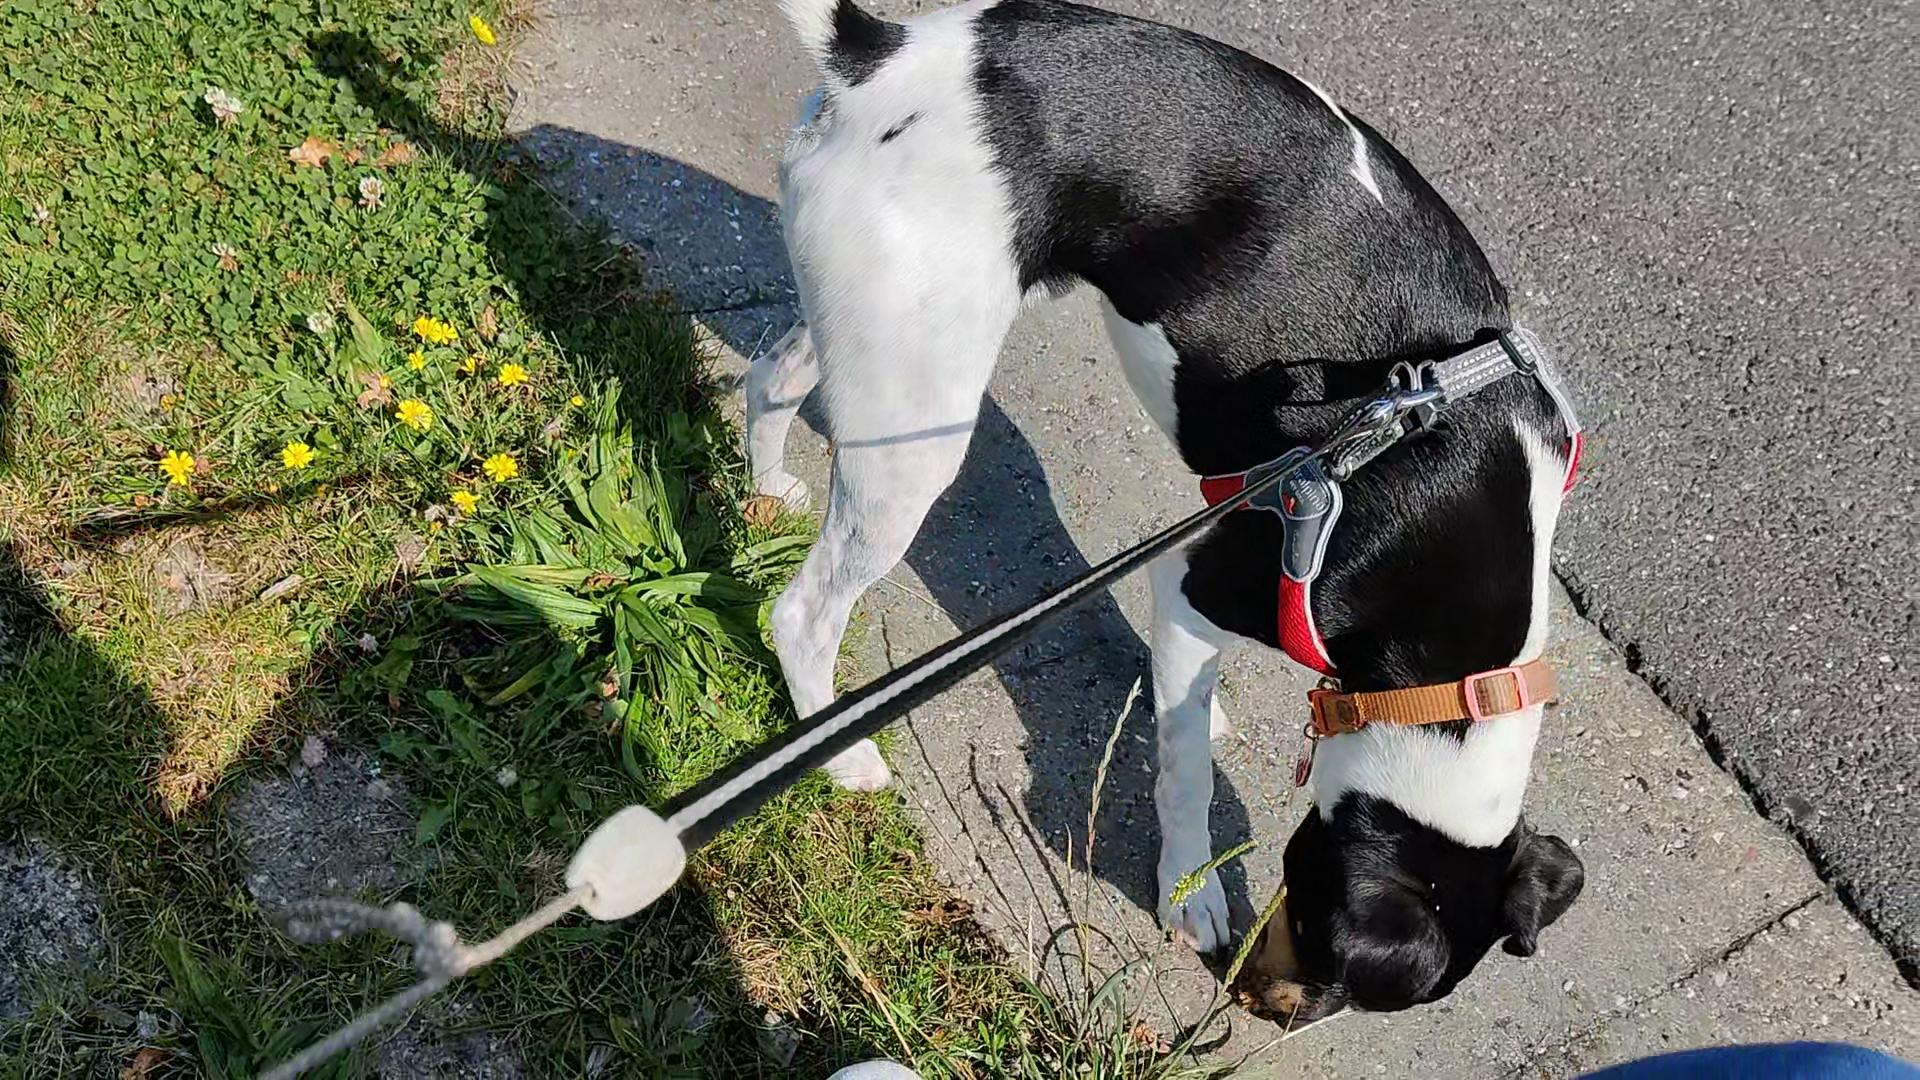Dog: (717, 0, 1590, 1044)
